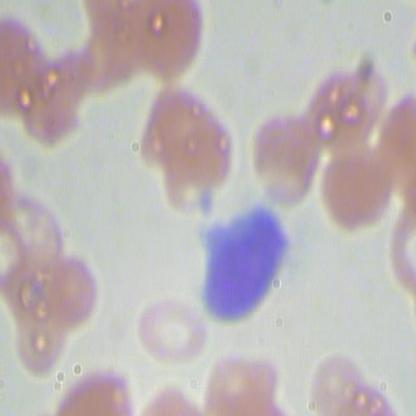Platelets: (198, 188, 216, 219)
RBC: (317, 138, 393, 238), (250, 108, 322, 208), (162, 97, 233, 197), (133, 1, 207, 89), (17, 51, 84, 146), (1, 17, 52, 127), (200, 349, 277, 415), (44, 248, 98, 332), (137, 299, 209, 361), (309, 349, 368, 415)
WBC: (199, 205, 293, 324)
